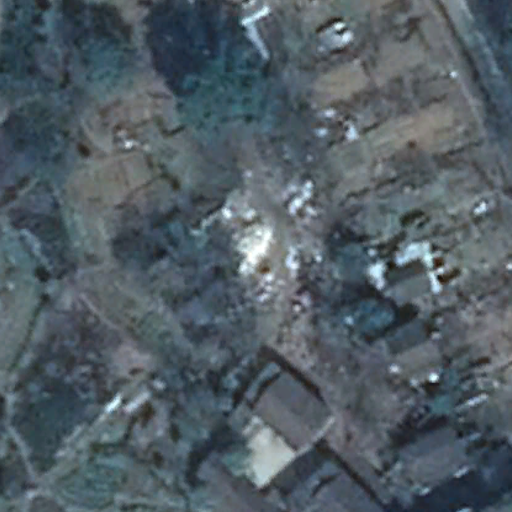msw: (216, 174, 323, 305)
